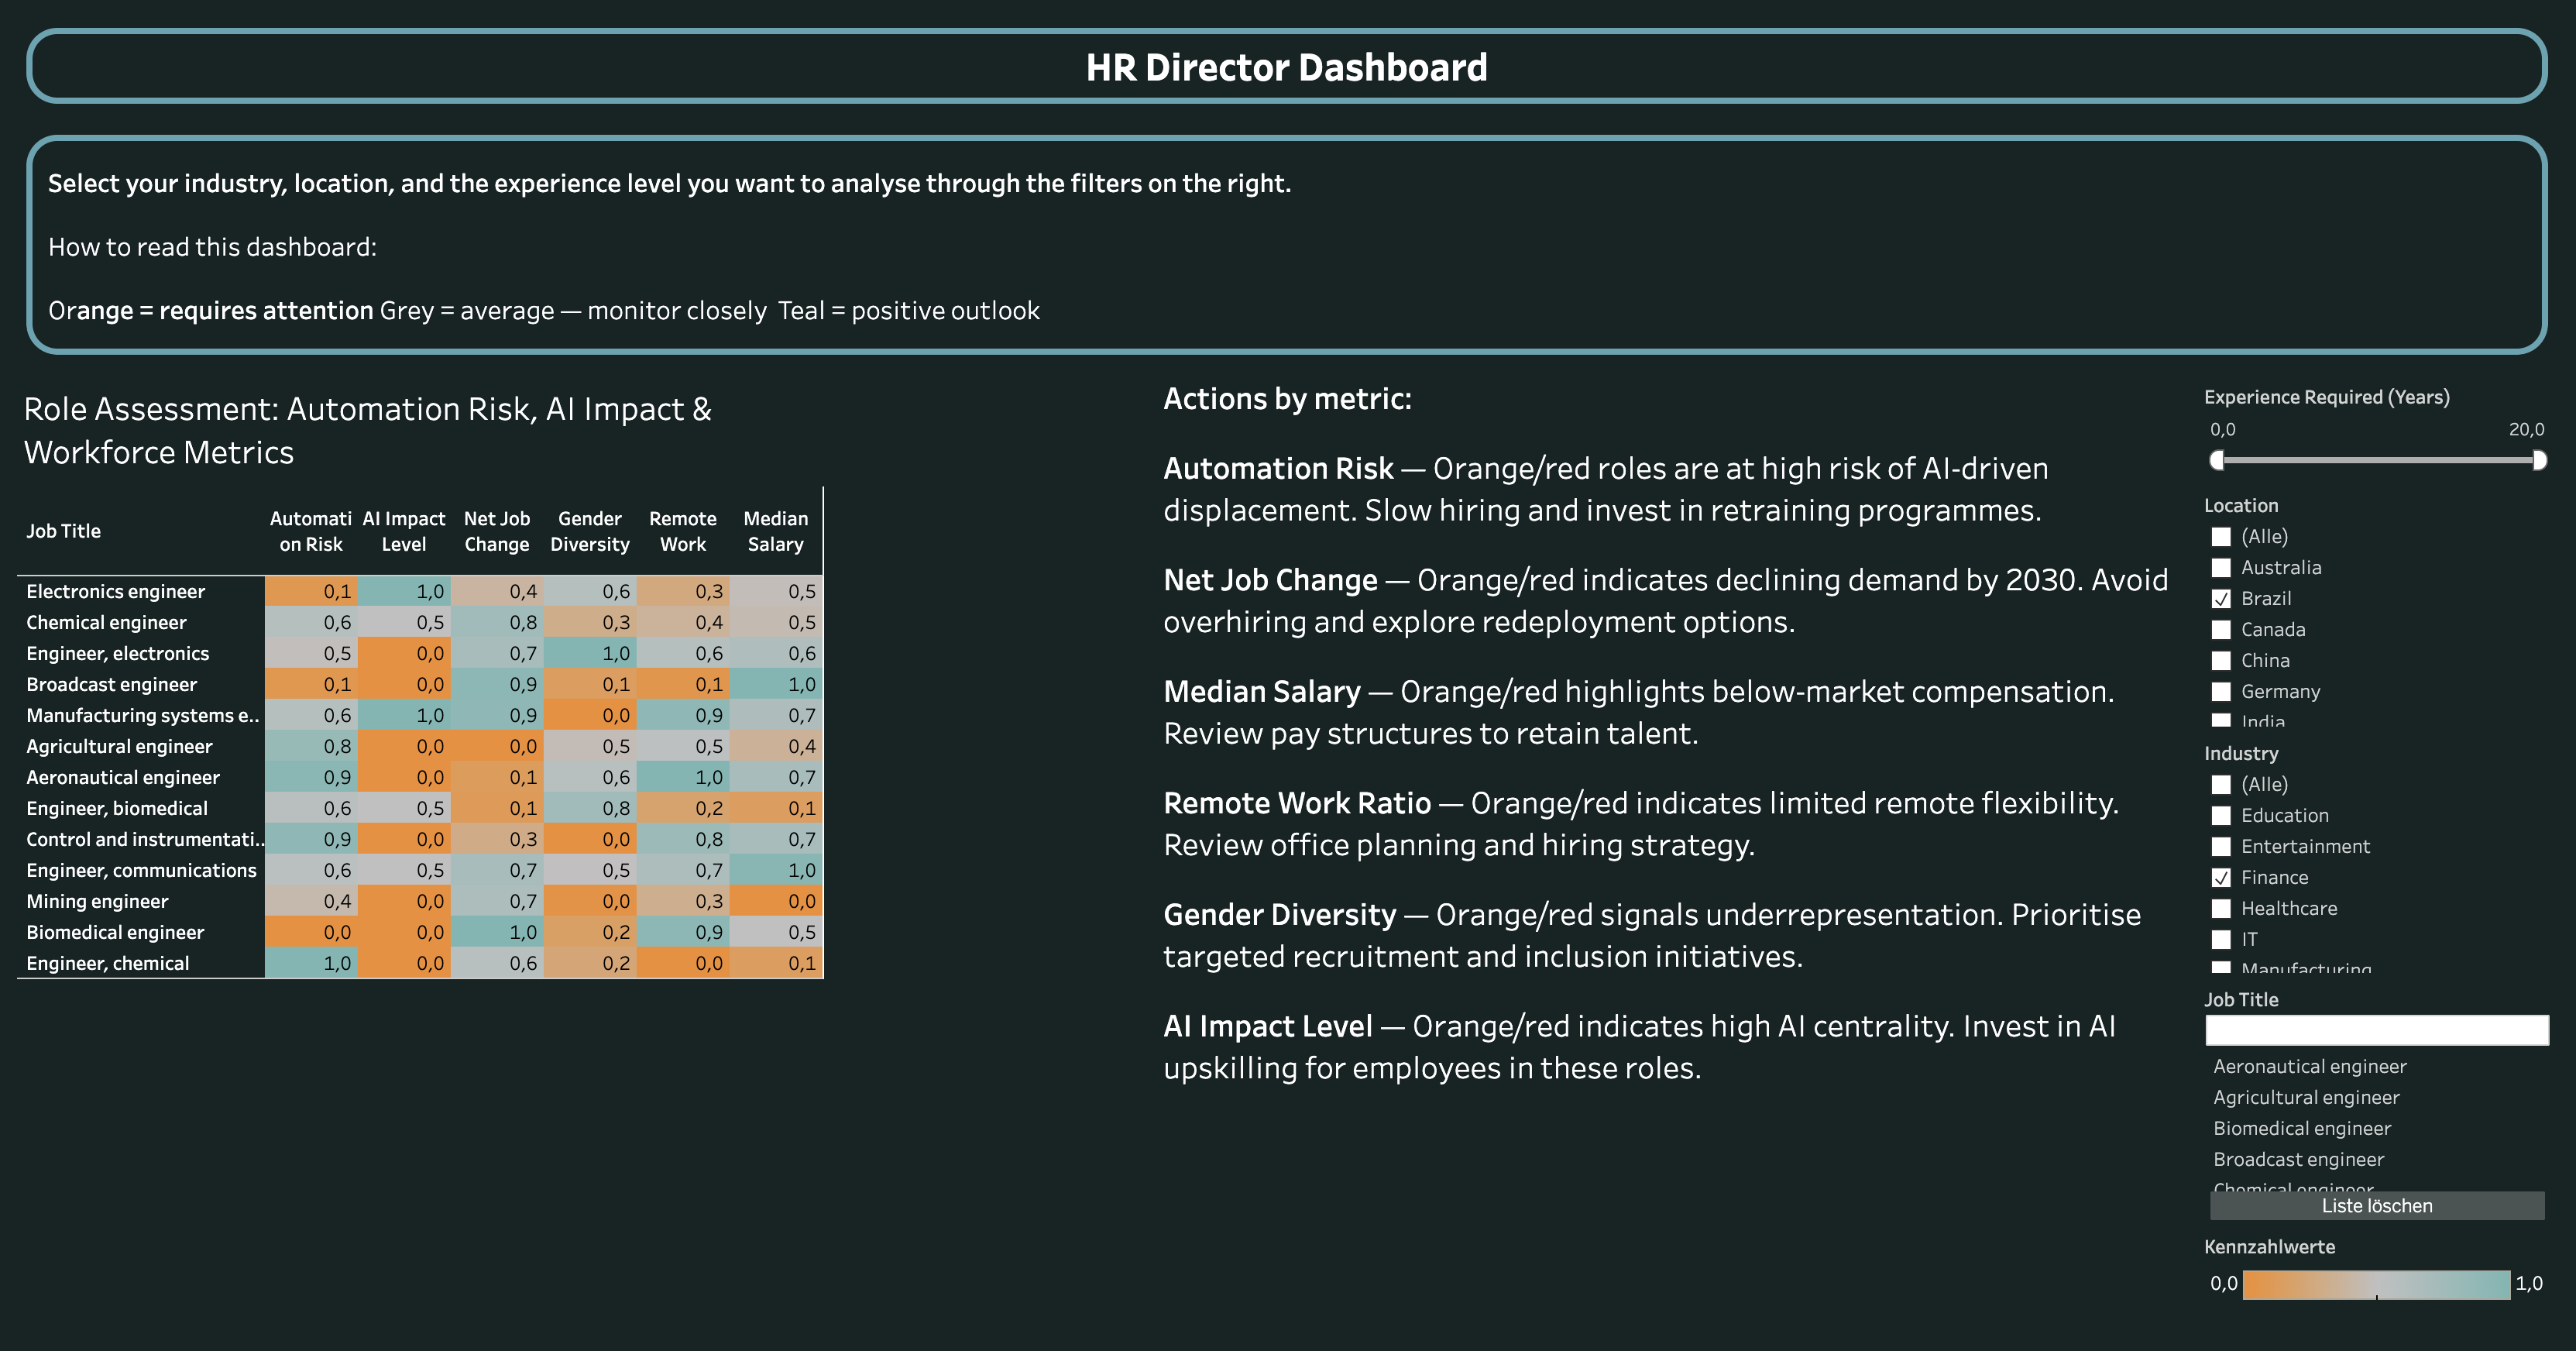

What the dashboard file says about the page in this screenshot:
{"tool":"tableau","page":{"name":"HR Director Dashboard","canvas":[1000,1000],"units":"permille","ordinal":4},"visuals":[{"type":"title","box":[5.9,8.8,988.1,76.2]},{"type":"text","box":[5.9,85.1,988.1,186.7]},{"type":"worksheet","title":"HR Director - Heatmap","mark":"Square","rows":["Job Title"],"box":[5.9,271.8,443.7,719.4]},{"type":"text","box":[449.6,271.8,400.7,719.4]},{"type":"filter","title":"HR Director - Heatmap","param":"[federated.0zkye0v0ev2j971b2q8he0505eqy].[none:Experience Required (Years):qk]","box":[853.3,276.2,137.8,76.2]},{"type":"filter","title":"HR Director - Heatmap","param":"[federated.0zkye0v0ev2j971b2q8he0505eqy].[none:Location:nk]","box":[853.3,352.5,137.8,224.3]},{"type":"filter","title":"HR Director - Heatmap","param":"[federated.0zkye0v0ev2j971b2q8he0505eqy].[none:Industry:nk]","box":[853.3,576.8,137.8,224.3]},{"type":"filter","title":"HR Director - Heatmap","param":"[federated.0zkye0v0ev2j971b2q8he0505eqy].[none:Job Title:nk]","box":[853.3,801.1,137.8,54.1]},{"type":"legend","title":"HR Director - Heatmap","param":"[federated.0zkye0v0ev2j971b2q8he0505eqy].[Multiple Values]","box":[853.3,855.2,137.8,71.8]}]}

Visuals, with their boxes on the dashboard's canvas, which has no fixed pixel size, in thousandths of its width and height (x1, y1, x2, y2). These are canvas units, not pixel positions in the 2576x1351 screenshot, which may show the page scaled, cropped or inside an application window:
title: (6, 9, 994, 85)
text: (6, 85, 994, 272)
"HR Director - Heatmap" worksheet (Square marks): (6, 272, 450, 991)
text: (450, 272, 850, 991)
"HR Director - Heatmap" filter: (853, 276, 991, 352)
"HR Director - Heatmap" filter: (853, 352, 991, 577)
"HR Director - Heatmap" filter: (853, 577, 991, 801)
"HR Director - Heatmap" filter: (853, 801, 991, 855)
"HR Director - Heatmap" legend: (853, 855, 991, 927)
